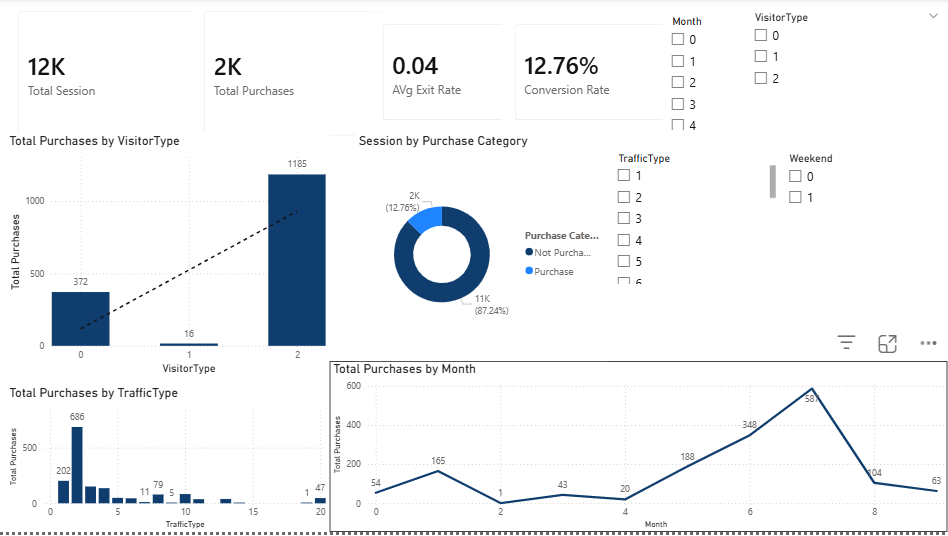

The dashboard page shown, as its layout file describes it:
{"tool":"powerbi","page":{"name":"Page 1","canvas":[1280,720],"ordinal":0},"visuals":[{"type":"cardVisual","fields":{"Data":["model_prediction_data.Total Session"]},"box":[10.1,0,278.9,202.1],"z":0},{"type":"cardVisual","fields":{"Data":["model_prediction_data.Total Purchases"]},"box":[260.7,0,278.9,202.1],"z":1},{"type":"cardVisual","fields":{"Data":["model_prediction_data.AVg Exit Rate"]},"box":[501.2,18.2,278.9,163.7],"z":2},{"type":"clusteredColumnChart","fields":{"Category":["model_prediction_data.VisitorType"],"Y":["model_prediction_data.Total Purchases"]},"box":[10.1,181.9,436.6,329.4],"z":3},{"type":"cardVisual","fields":{"Data":["model_prediction_data.Conversion Rate"]},"box":[679.1,18.2,285,163.7],"z":4},{"type":"clusteredColumnChart","fields":{"Category":["model_prediction_data.TrafficType"],"Y":["model_prediction_data.Total Purchases"]},"box":[10.1,521.4,436.6,198.1],"z":5},{"type":"lineChart","fields":{"Category":["model_prediction_data.Month"],"Y":["model_prediction_data.Total Purchases"]},"box":[446.7,489.1,832.7,230.4],"z":6},{"type":"donutChart","title":"Session by Purchase Category","fields":{"Category":["model_prediction_data.Purchase Category"],"Y":["model_prediction_data.Total Session"]},"box":[481,181.9,341.6,307.2],"z":7},{"type":"slicer","fields":{"Values":["model_prediction_data.Month"]},"box":[895.3,18.2,384,163.7],"z":8},{"type":"slicer","fields":{"Values":["model_prediction_data.VisitorType"]},"box":[1006.5,12.1,272.8,177.9],"z":9},{"type":"slicer","fields":{"Values":["model_prediction_data.TrafficType"]},"box":[822.6,202.1,230.4,188],"z":10},{"type":"slicer","fields":{"Values":["model_prediction_data.Weekend"]},"box":[1053,202,226,188],"z":11}]}

Visuals, with their boxes in screenshot pixels (x1, y1, x2, y2), scaled from the page's 1280x720 canvas onto the 948x536 screenshot:
cardVisual - model_prediction_data.Total Session: Rect(7, 0, 214, 150)
cardVisual - model_prediction_data.Total Purchases: Rect(193, 0, 400, 150)
cardVisual - model_prediction_data.AVg Exit Rate: Rect(371, 14, 578, 135)
clusteredColumnChart - model_prediction_data.VisitorType x model_prediction_data.Total Purchases: Rect(7, 135, 331, 381)
cardVisual - model_prediction_data.Conversion Rate: Rect(503, 14, 714, 135)
clusteredColumnChart - model_prediction_data.TrafficType x model_prediction_data.Total Purchases: Rect(7, 388, 331, 535)
lineChart - model_prediction_data.Month x model_prediction_data.Total Purchases: Rect(331, 364, 947, 535)
"Session by Purchase Category" donutChart: Rect(356, 135, 609, 364)
slicer - model_prediction_data.Month: Rect(663, 14, 947, 135)
slicer - model_prediction_data.VisitorType: Rect(745, 9, 947, 141)
slicer - model_prediction_data.TrafficType: Rect(609, 150, 780, 290)
slicer - model_prediction_data.Weekend: Rect(780, 150, 947, 290)
